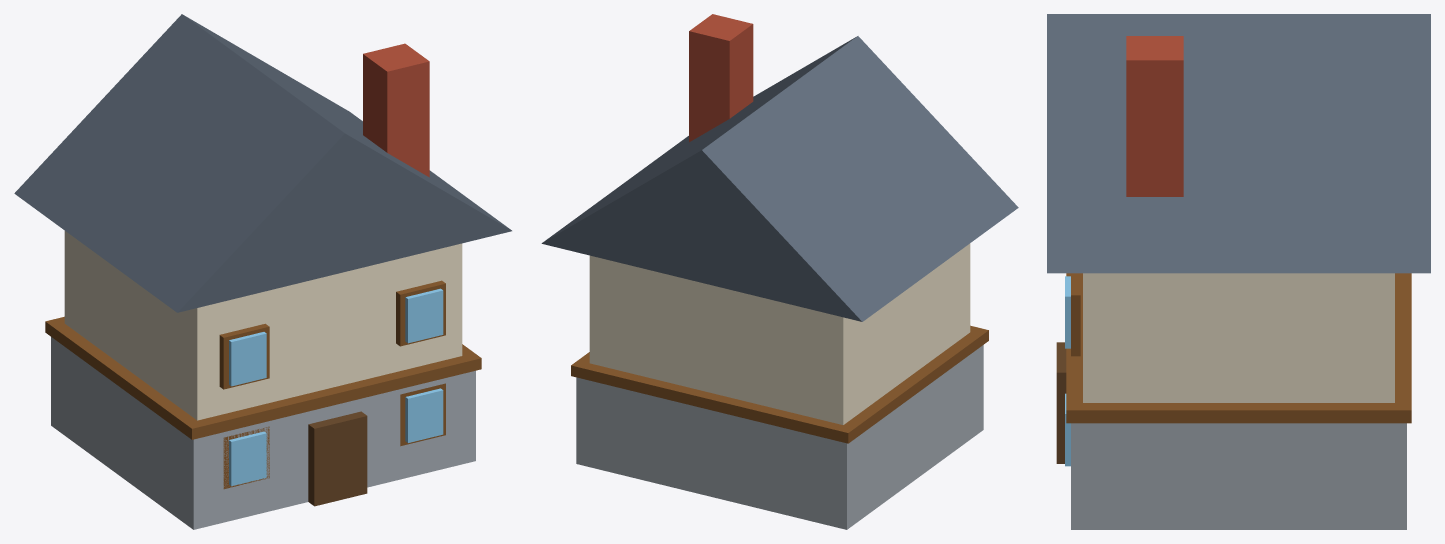
The model's file is house_3.glb.
3 renders of one model, left to right at view 1: azimuth 30°, elevation 25°; view 2: azimuth 150°, elevation 25°; view 3: azimuth 270°, elevation 25°, orthographic. The views are drawn at different scales.
Visible parts, largest first — view 1: ardosia, reboco.001, pedra.001, madeira_escura.003, vidro.002, tijolo.001, porta.003; view 2: ardosia, reboco.001, pedra.001, madeira_escura.003, tijolo.001; view 3: ardosia, reboco.001, pedra.001, madeira_escura.003, tijolo.001, porta.003, vidro.002.
Part boxes in pixels (x1=…): ardosia: x1=14, y1=14, x2=511, y2=312; reboco.001: x1=64, y1=231, x2=462, y2=420; pedra.001: x1=51, y1=337, x2=475, y2=529; madeira_escura.003: x1=45, y1=280, x2=481, y2=489; vidro.002: x1=229, y1=288, x2=443, y2=486; tijolo.001: x1=363, y1=43, x2=429, y2=177; porta.003: x1=308, y1=411, x2=367, y2=506; ardosia: x1=541, y1=36, x2=1018, y2=321; reboco.001: x1=589, y1=243, x2=970, y2=424; pedra.001: x1=576, y1=345, x2=983, y2=529; madeira_escura.003: x1=571, y1=325, x2=988, y2=443; tijolo.001: x1=689, y1=14, x2=753, y2=142; ardosia: x1=1047, y1=14, x2=1430, y2=273; reboco.001: x1=1083, y1=273, x2=1394, y2=402; pedra.001: x1=1071, y1=423, x2=1406, y2=529; madeira_escura.003: x1=1066, y1=273, x2=1411, y2=423; tijolo.001: x1=1126, y1=36, x2=1183, y2=196; porta.003: x1=1056, y1=342, x2=1066, y2=463; vidro.002: x1=1065, y1=276, x2=1070, y2=466.
Bounding box in the file's own units: 1.9 × 2.1 × 1.6.
